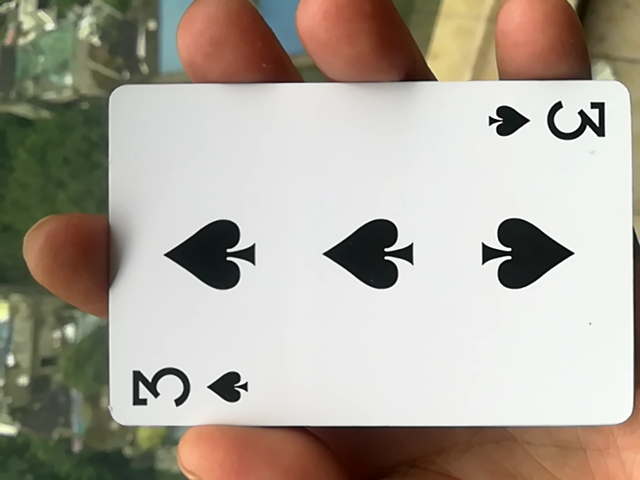ht 3: (86, 93, 633, 452)
